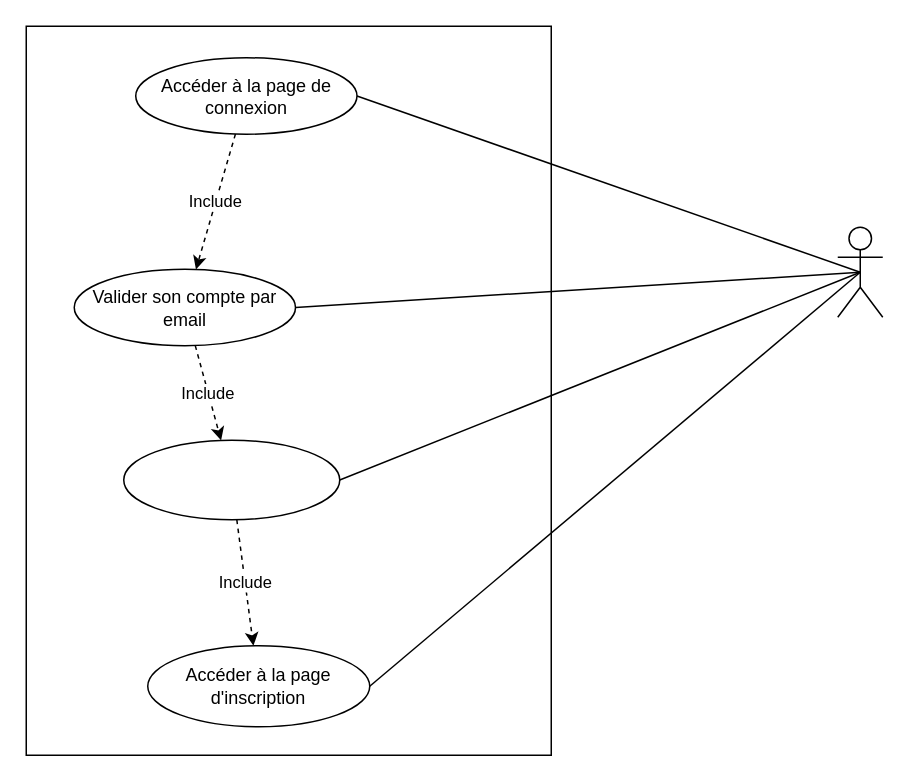
The diagram is 917 pixels wide and 782 high, and some of its shapes have lost their labels. The shapes that lost their labels are listed below. From the top down, each one's centre as x and y in pixels, then its label:
At point (859, 271): "Visiteur".
At point (231, 479): "Remplir le formulaire d'inscription".
